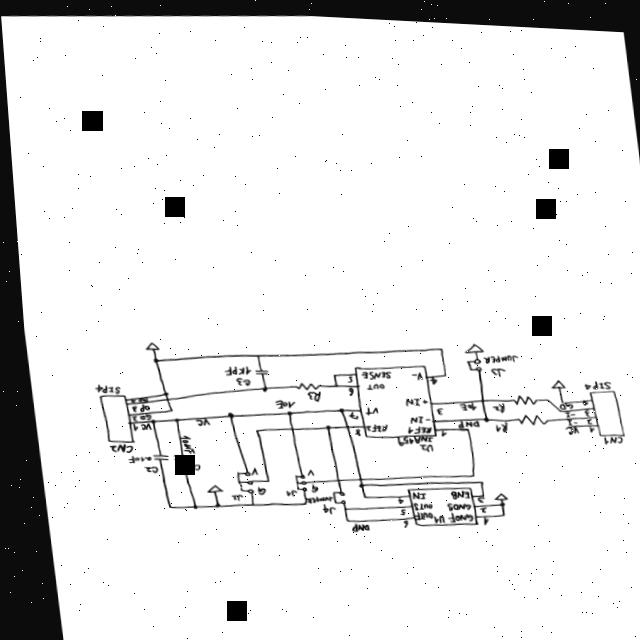capacitor: (144, 452, 164, 461), (247, 366, 265, 375), (165, 452, 182, 461)
crossover: (473, 394, 480, 398), (282, 424, 289, 428), (337, 422, 344, 425), (159, 397, 165, 400), (351, 474, 357, 477), (328, 476, 333, 479)
ground: (458, 338, 480, 349), (198, 482, 216, 491), (486, 488, 502, 498), (139, 341, 155, 350), (544, 375, 561, 383)
inductor: (300, 492, 327, 501)
junction: (147, 356, 155, 362), (318, 421, 326, 427), (331, 404, 339, 410), (280, 408, 288, 414), (156, 389, 164, 395), (351, 479, 358, 485), (477, 412, 484, 418), (221, 411, 229, 416), (255, 384, 263, 389), (184, 503, 191, 508), (433, 343, 440, 348), (354, 491, 361, 496), (162, 407, 169, 412), (167, 416, 174, 421), (460, 469, 468, 473), (248, 426, 254, 431), (327, 370, 333, 375), (207, 502, 214, 506), (436, 369, 443, 373), (493, 508, 499, 512), (472, 476, 478, 480), (258, 476, 264, 480), (554, 394, 560, 398), (242, 500, 248, 504), (492, 497, 498, 501), (160, 504, 165, 508), (337, 515, 342, 519), (250, 352, 255, 355), (336, 504, 341, 507), (295, 499, 300, 502), (552, 404, 557, 407), (539, 393, 544, 396), (329, 381, 333, 384), (458, 424, 462, 426)
resistor: (510, 409, 543, 420), (506, 390, 533, 400), (289, 379, 316, 388)
switch: (229, 469, 247, 492), (461, 354, 478, 367), (288, 471, 300, 489), (325, 488, 339, 501)
text: (390, 432, 429, 442), (478, 350, 513, 359), (174, 432, 189, 453), (355, 367, 387, 376), (88, 383, 116, 393), (218, 364, 246, 374), (438, 508, 466, 518), (577, 375, 607, 384), (102, 443, 127, 453), (400, 421, 426, 430), (121, 454, 146, 463), (450, 415, 475, 424), (358, 420, 383, 429), (439, 498, 464, 507), (398, 394, 423, 402), (268, 397, 290, 406), (484, 362, 502, 373), (407, 507, 426, 517), (442, 486, 463, 495), (405, 498, 426, 507), (403, 412, 425, 420), (489, 416, 503, 428), (597, 430, 618, 438), (301, 388, 316, 399), (453, 398, 471, 407), (343, 520, 363, 528), (314, 500, 328, 511), (229, 375, 246, 384), (404, 487, 420, 496), (360, 379, 380, 386), (358, 403, 373, 412), (486, 398, 499, 408), (188, 417, 204, 425), (181, 461, 195, 470), (560, 421, 575, 429), (133, 421, 146, 430), (137, 465, 151, 473), (248, 484, 260, 493), (132, 402, 144, 411), (341, 408, 354, 416), (414, 440, 427, 448), (405, 368, 418, 376), (340, 384, 351, 393), (279, 486, 291, 494), (426, 511, 438, 519), (223, 492, 236, 499), (302, 481, 312, 490), (553, 398, 568, 404), (560, 413, 572, 420), (347, 425, 357, 433), (393, 516, 403, 524), (133, 413, 146, 419), (474, 512, 482, 521), (558, 406, 570, 412), (391, 505, 401, 512), (469, 492, 479, 499), (299, 466, 309, 473), (244, 465, 252, 473), (433, 426, 442, 433), (471, 502, 481, 508), (125, 423, 133, 430), (389, 494, 397, 501), (424, 374, 433, 380), (580, 420, 589, 426), (578, 404, 585, 411), (430, 404, 437, 411), (125, 404, 132, 411), (341, 373, 349, 379), (132, 397, 143, 401), (576, 395, 583, 400), (125, 415, 132, 420), (580, 413, 586, 418), (124, 399, 130, 402)
